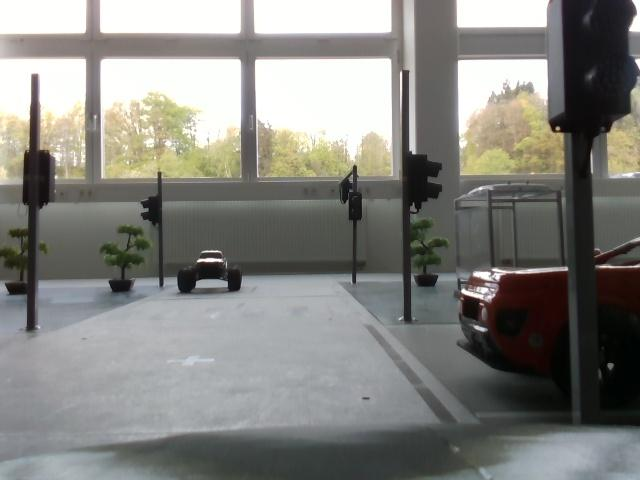car: (469, 241, 640, 397), (172, 246, 254, 302)
potted plant: (97, 217, 157, 303), (2, 218, 55, 313), (404, 214, 450, 292)
traffic light: (552, 1, 640, 133), (17, 141, 63, 211), (403, 151, 441, 197), (336, 174, 368, 222)
